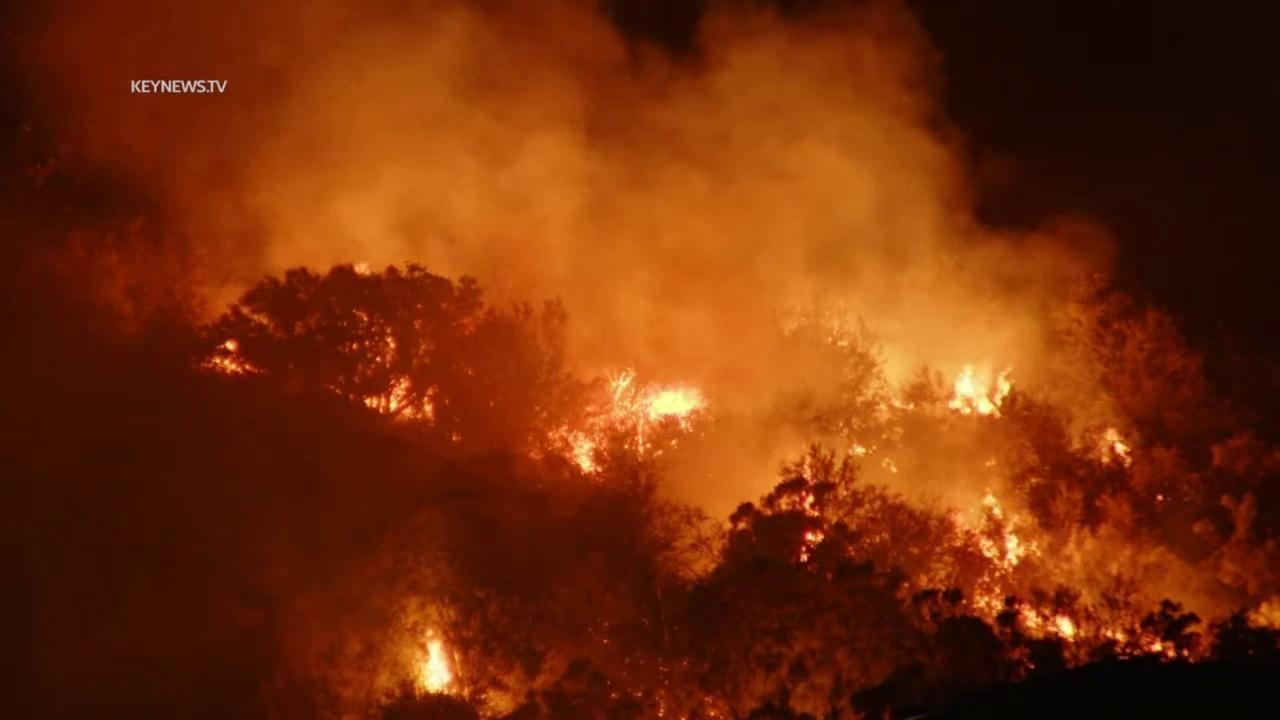fire: (972, 488, 1196, 665), (544, 365, 714, 482), (349, 306, 440, 430), (945, 361, 1015, 423), (415, 626, 463, 700), (796, 462, 826, 563), (203, 337, 268, 375), (1095, 426, 1134, 469), (1141, 470, 1175, 504), (351, 260, 375, 278), (847, 442, 867, 457), (881, 457, 898, 474), (981, 458, 998, 468), (1182, 493, 1194, 504)
smoke: (0, 0, 1280, 720)
